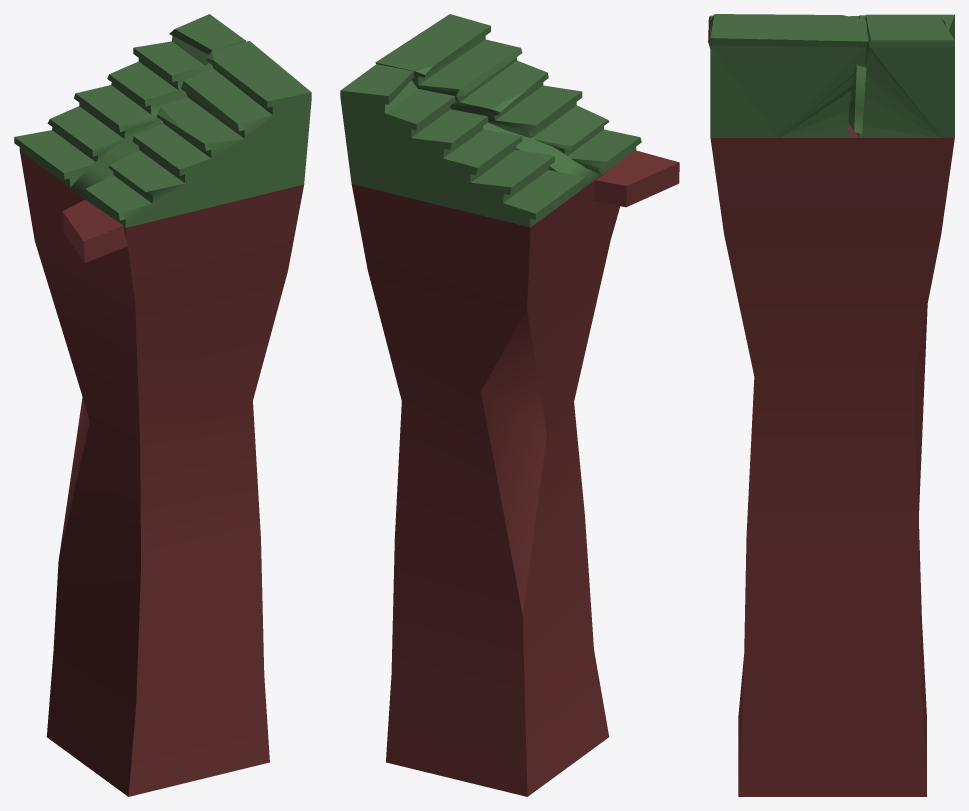
The model's file is mesh_muroescalera3.fbx.
The picture shows the model from 3 angles, left to right: view 1: azimuth 30°, elevation 25°; view 2: azimuth 150°, elevation 25°; view 3: azimuth 270°, elevation 25°; orthographic projection. The views are drawn at different scales.
Parts seen in each view (by area): view 1: mesh_muroescalera3; view 2: mesh_muroescalera3; view 3: mesh_muroescalera3.
Part boxes in pixels (box(x1,y1,x2,y2)): mesh_muroescalera3: box(14, 14, 311, 796); mesh_muroescalera3: box(340, 14, 679, 796); mesh_muroescalera3: box(708, 14, 954, 796).
Bounding box in the file's own units: 2259 × 6064 × 1748.
